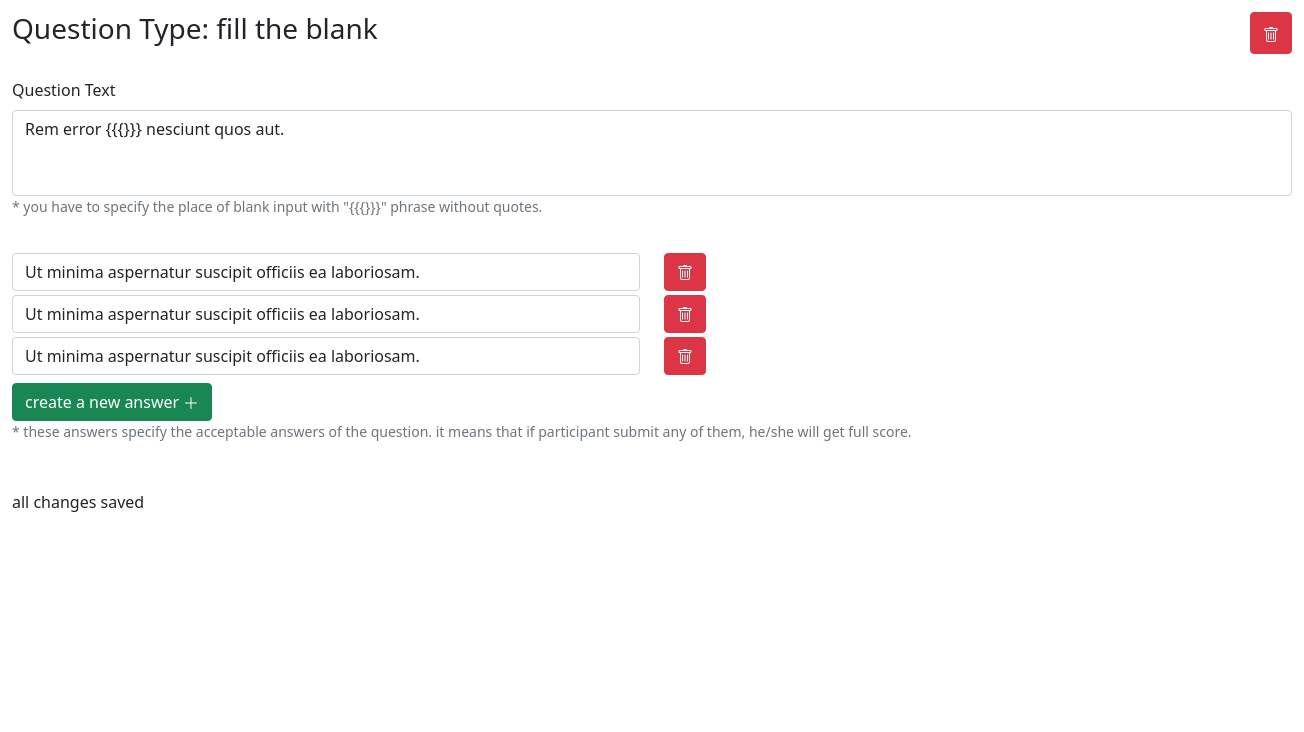
it: check update feature › user can add answer and update
The image size is (1304, 732).
Expected: the text "all changes saved" is shown, [12,491,144,513]
Click the button "create a new answer" at (112, 402), box [12,383,212,421]
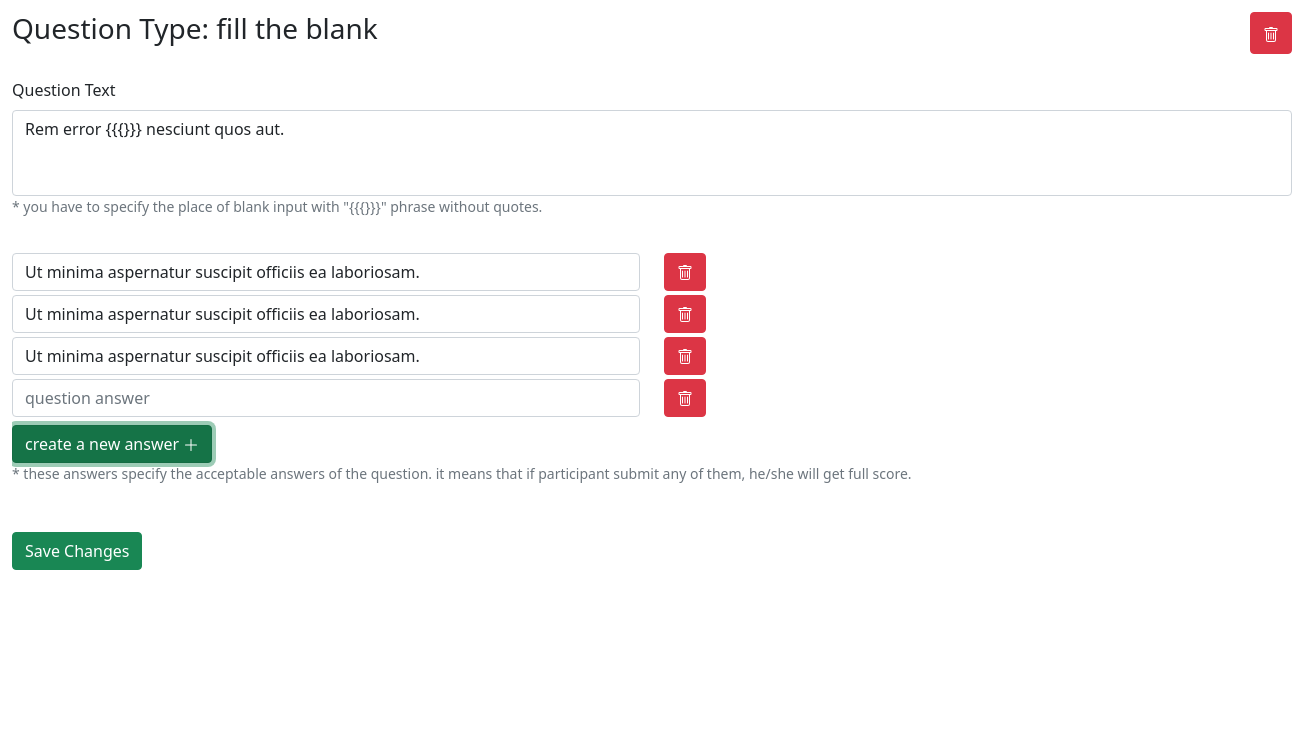
Type "new answer 1 new answer 1" into the field labelled "question answer" at (326, 398), box [12,379,640,417]
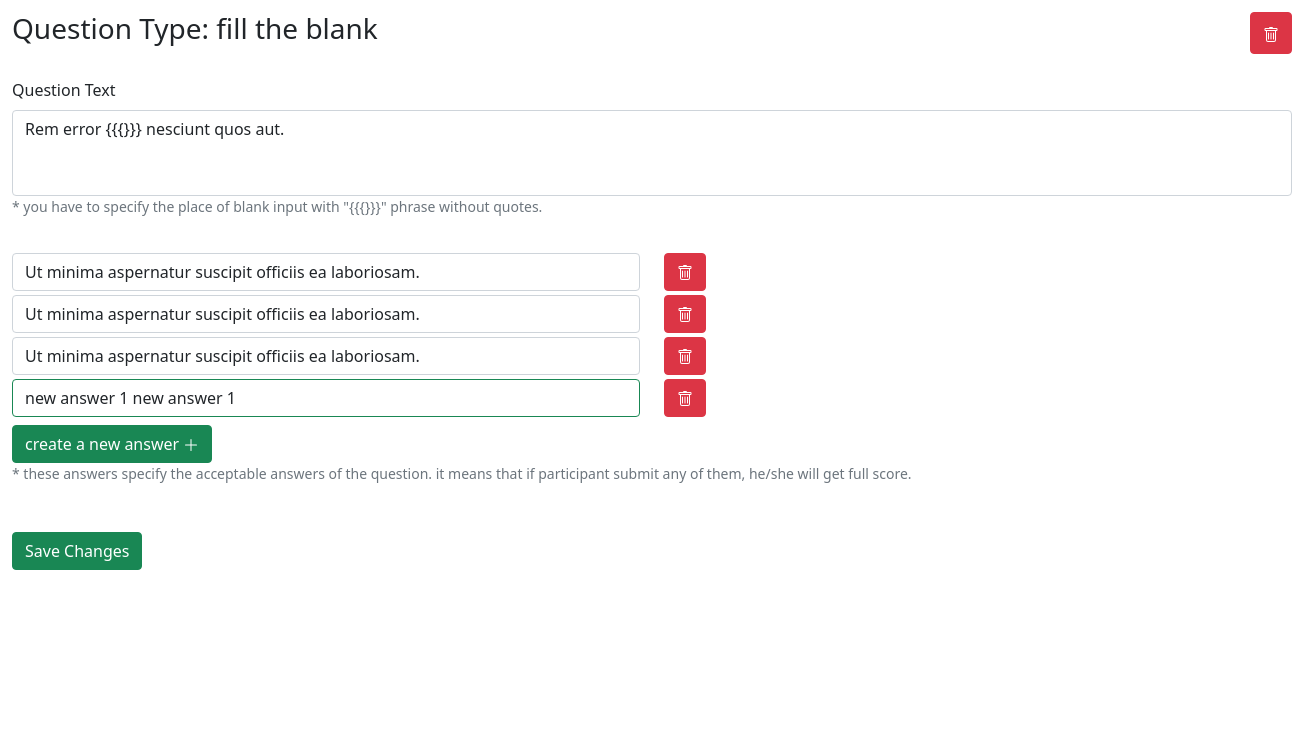
Click the button "Save Changes" at (77, 551), box [12,532,142,570]
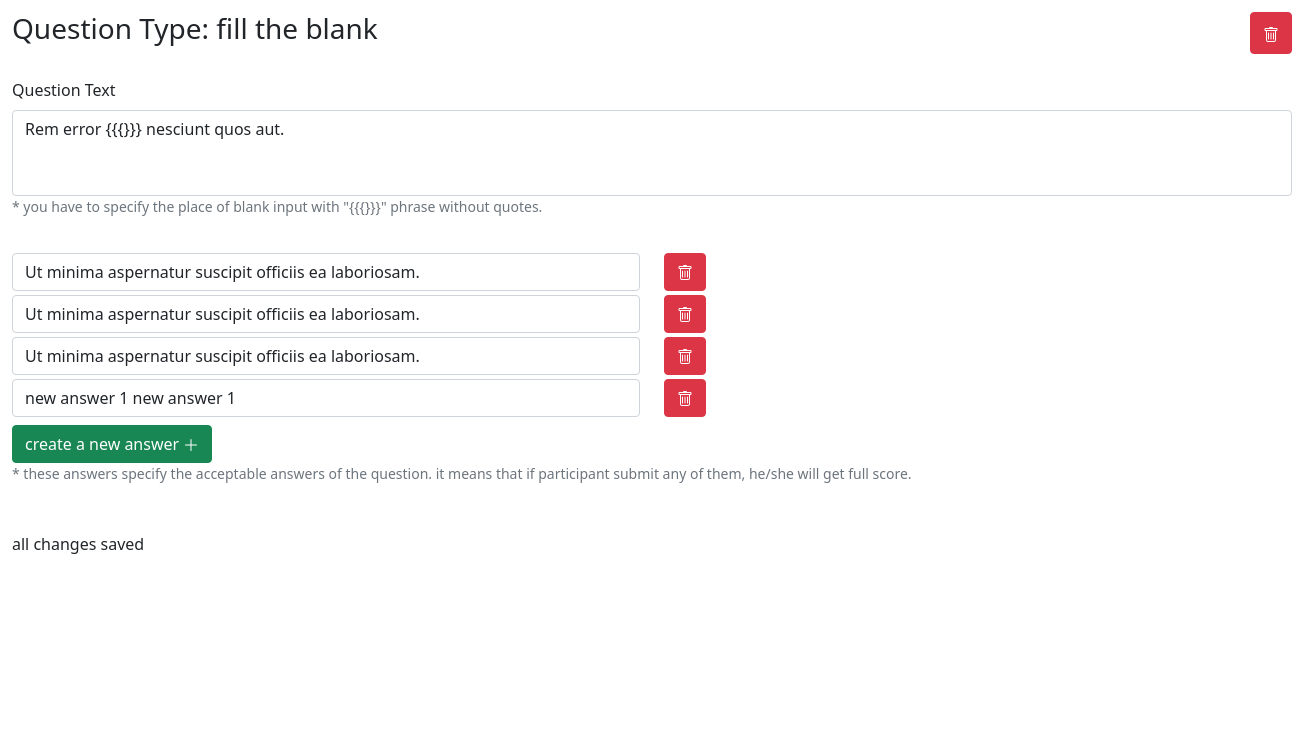
Expected: the text "all changes saved" is shown, [12,533,144,555]
Expected: the button "Save Changes" is gone
